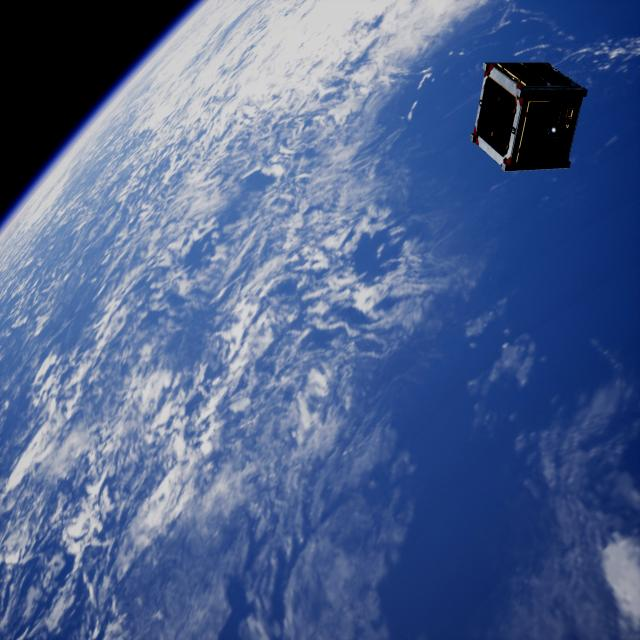satellite: (465, 58, 589, 170)
